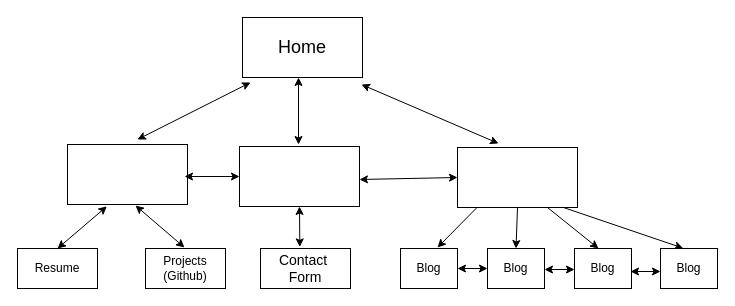
This 735x306 diagram has some shape labels left out. The centre of each missing label's shape, as x and y in pixels:
"About" goes at (x=299, y=176).
"Blogs (display most recent blog)" goes at (x=517, y=177).
"Work" goes at (x=127, y=174).
